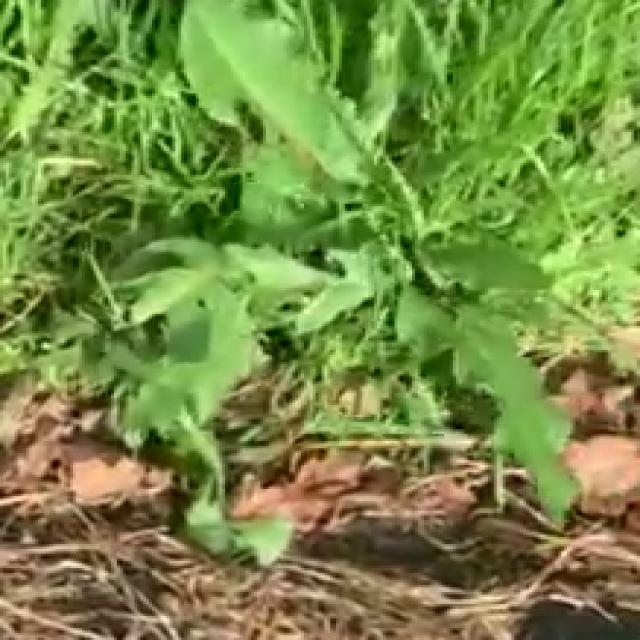organic waste: (61, 0, 639, 551)
